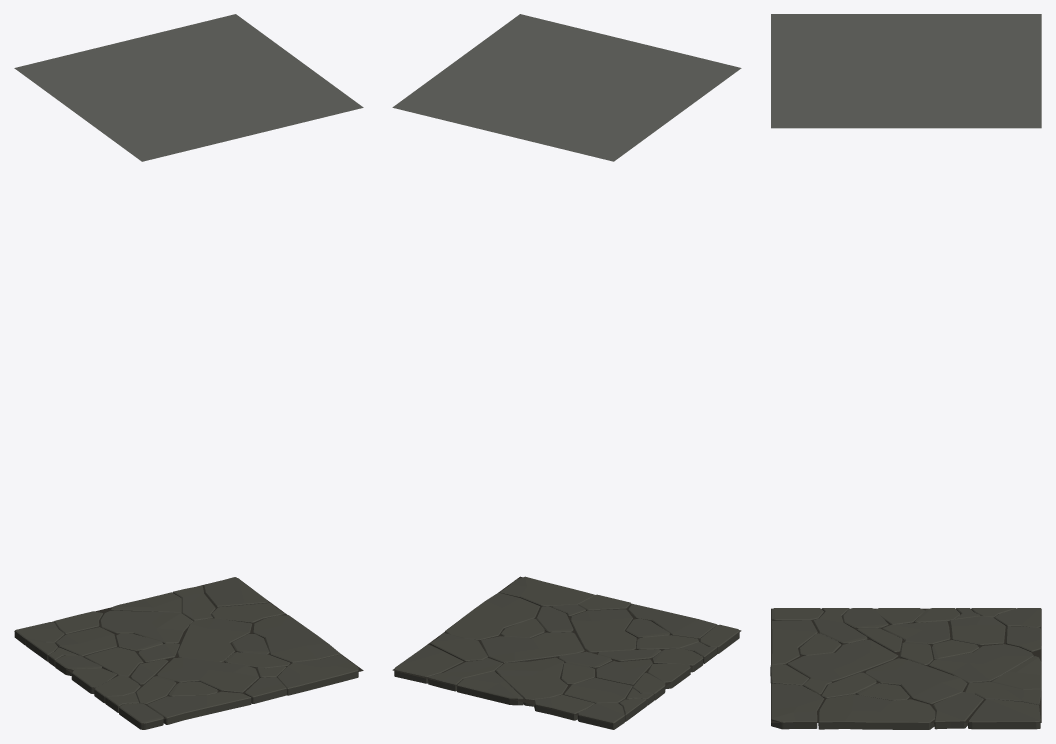
Rendered from Dungeon_Hall_Center.glb.
3 renders of one model, left to right at view 1: azimuth 30°, elevation 25°; view 2: azimuth 150°, elevation 25°; view 3: azimuth 270°, elevation 25°, orthographic. The views are drawn at different scales.
Parts seen in each view (by area): view 1: Dungeon_Hall_Center.001; view 2: Dungeon_Hall_Center.001; view 3: Dungeon_Hall_Center.001.
Part boxes in pixels (x1,y1,x2,y2): Dungeon_Hall_Center.001: (14, 14, 363, 729); Dungeon_Hall_Center.001: (392, 14, 741, 729); Dungeon_Hall_Center.001: (770, 14, 1041, 729).
Bounding box in the file's own units: 4.02 × 9.82 × 4.01.
Materials: 2 (2 with a texture image).
